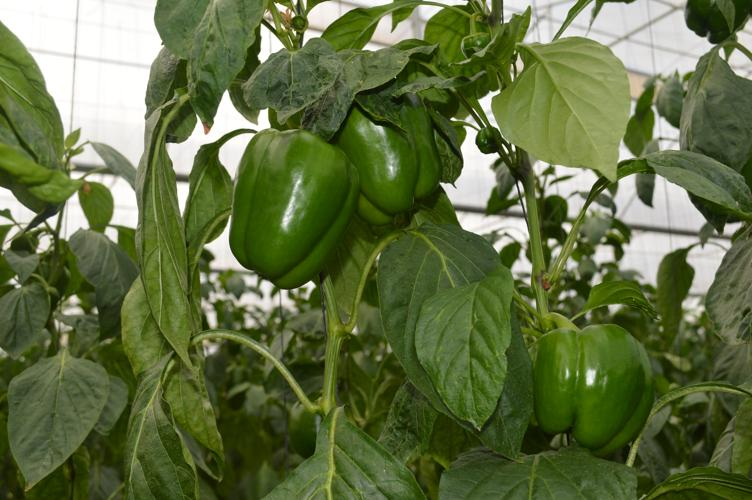BellPepper: (228, 128, 366, 280), (526, 325, 654, 457), (341, 100, 438, 224)
